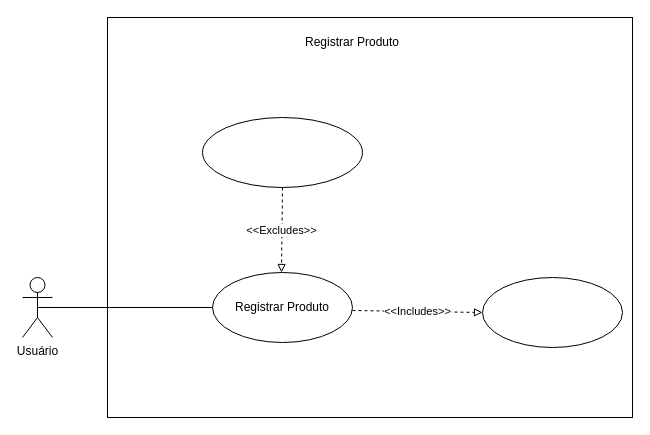
This 650x435 diagram has some shape labels left out. The centre of each missing label's shape, as x and y in pixels:
"Retorna uma mensagem de erro caso o produto já exista" belongs at [282,152].
"Verifica se o produto já existe no BD" belongs at [552,312].
